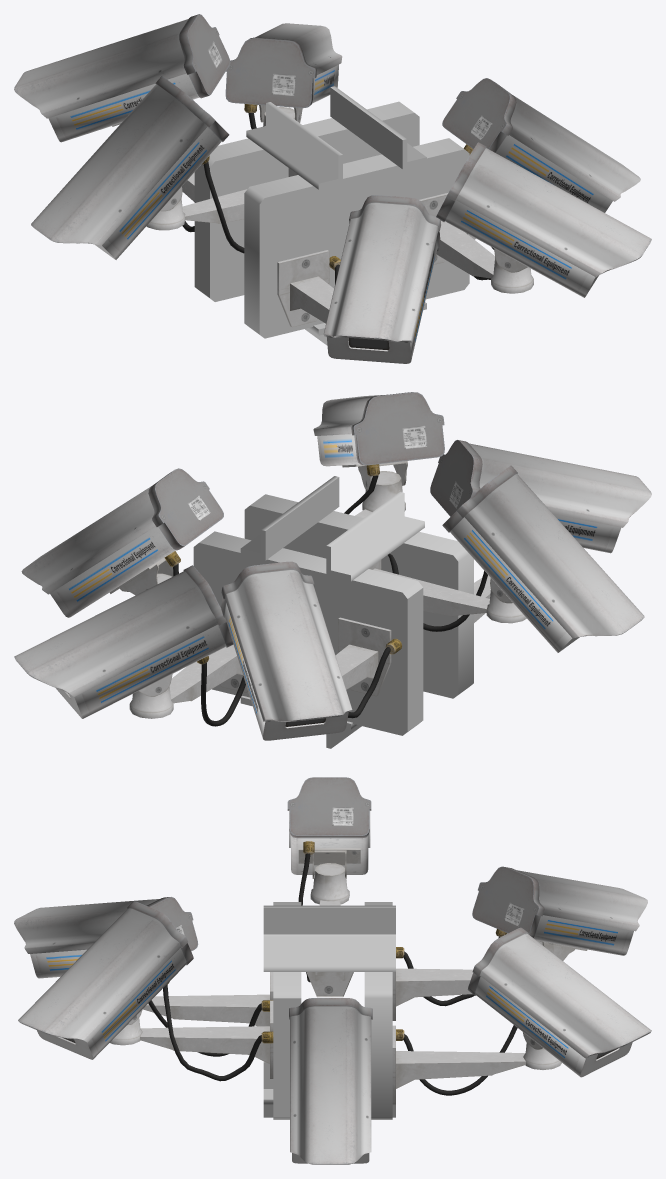
Rendered from SM_CCTVCamera_Mounted.fbx.
3 renders of one model, top to bottom at view 1: azimuth 30°, elevation 25°; view 2: azimuth 150°, elevation 25°; view 3: azimuth 270°, elevation 25°, orthographic. The views are drawn at different scales.
Parts seen in each view (by area): view 1: SM_CCTVCamera_Mounted_LOD0; view 2: SM_CCTVCamera_Mounted_LOD0; view 3: SM_CCTVCamera_Mounted_LOD0.
Part boxes in pixels (box(x1,y1,x2,y2)): SM_CCTVCamera_Mounted_LOD0: box(14, 14, 651, 363); SM_CCTVCamera_Mounted_LOD0: box(14, 392, 651, 748); SM_CCTVCamera_Mounted_LOD0: box(14, 777, 651, 1164).
Bounding box in the file's own units: 193 × 198 × 86.09.
